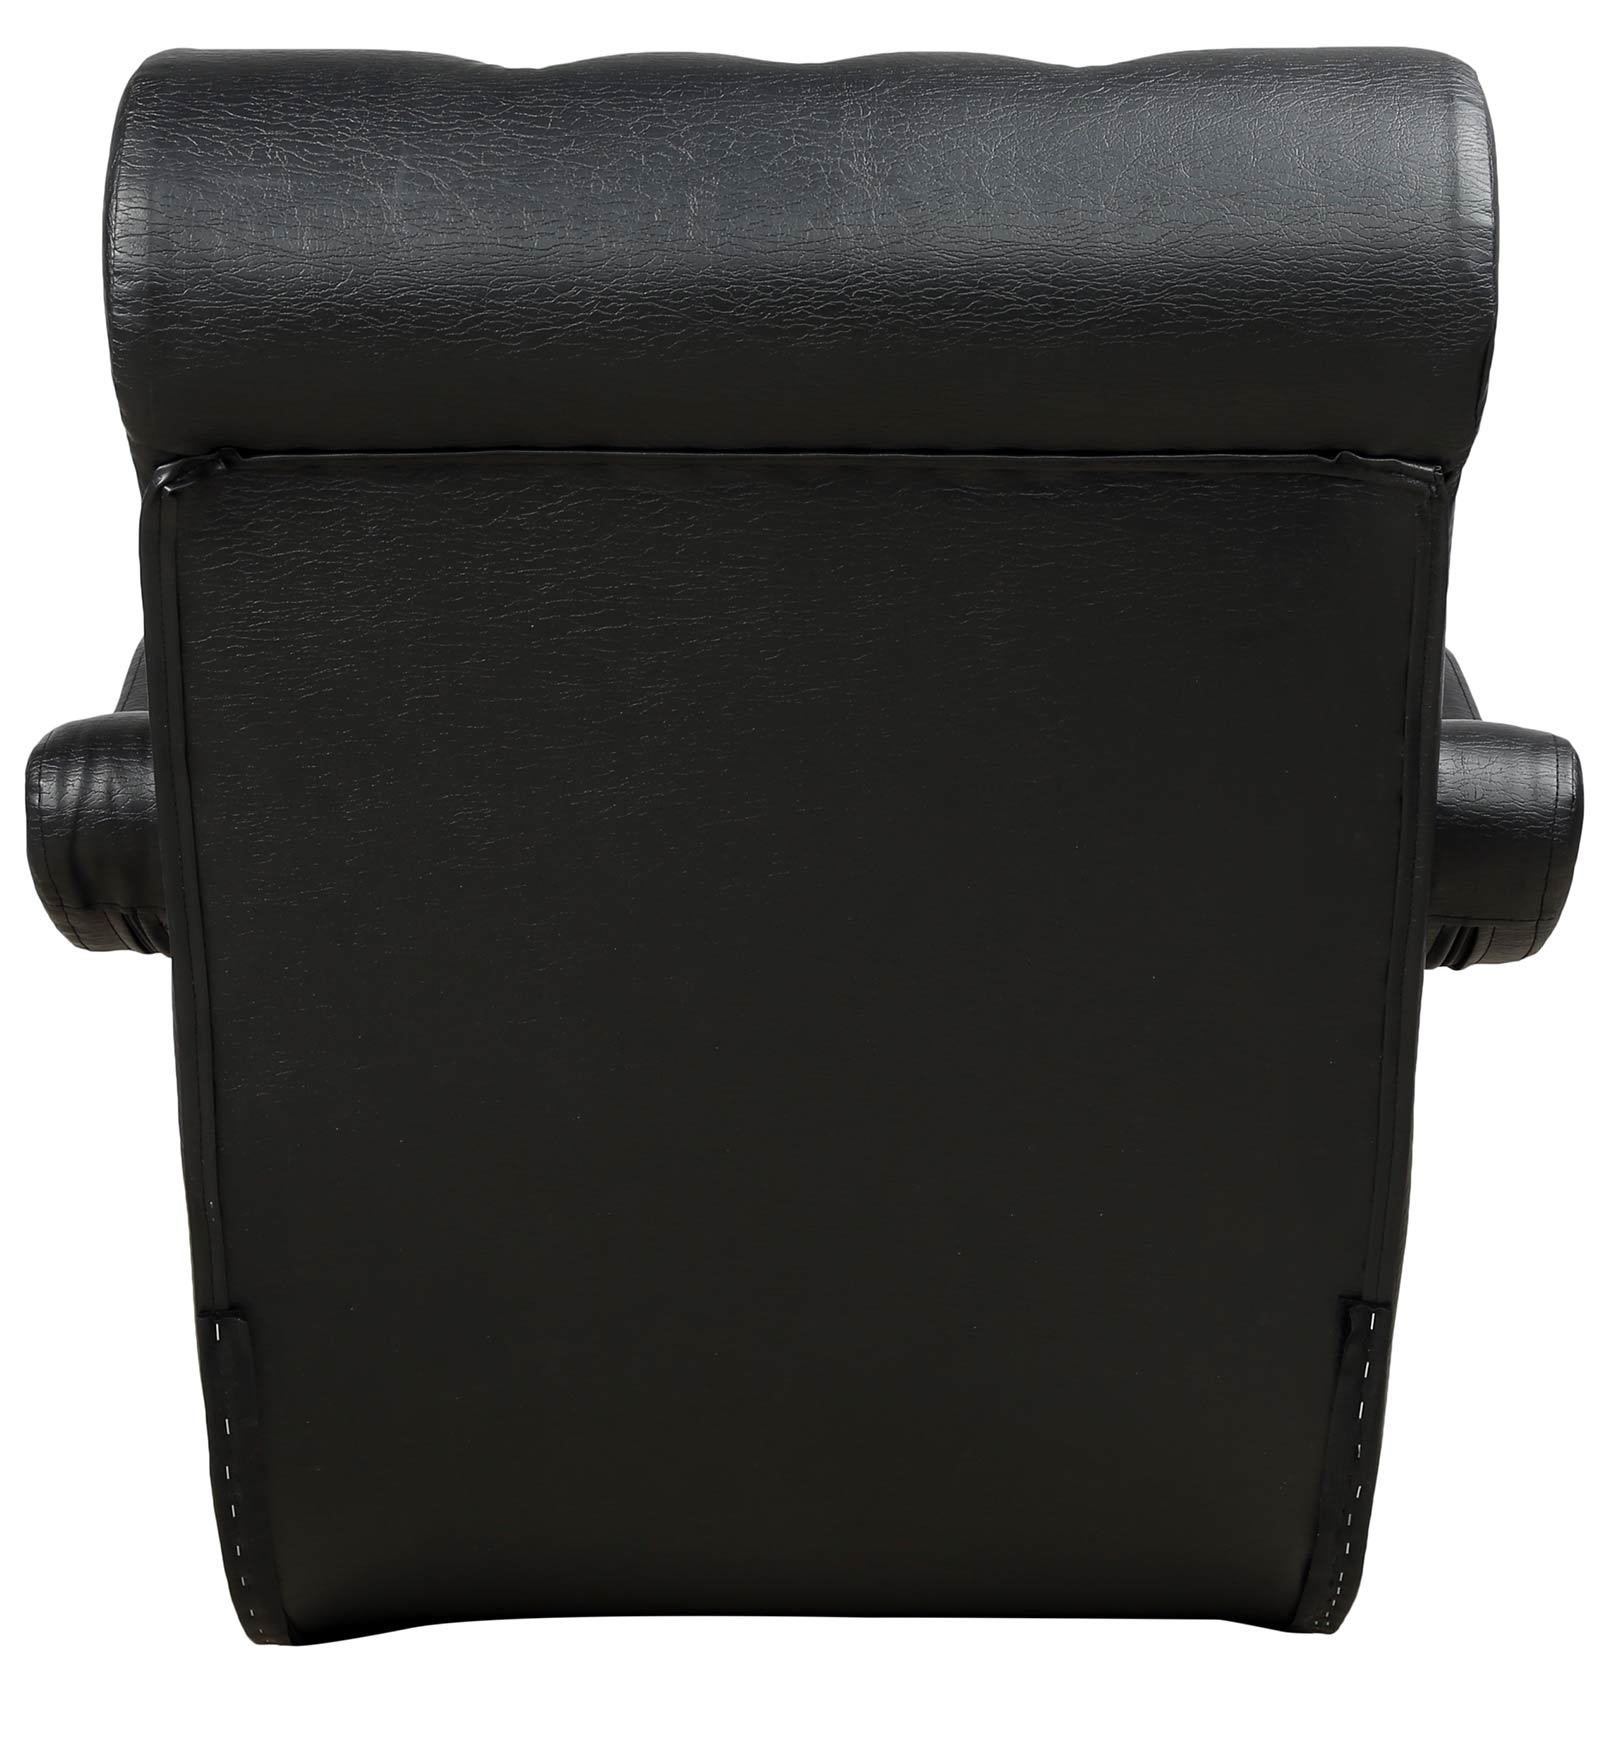Alex Low Seating Rocking Chair with Arm Rest in Black Colour by Parin: (46, 35, 1600, 1714)
